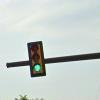traffic lights: (27, 40, 47, 76)
